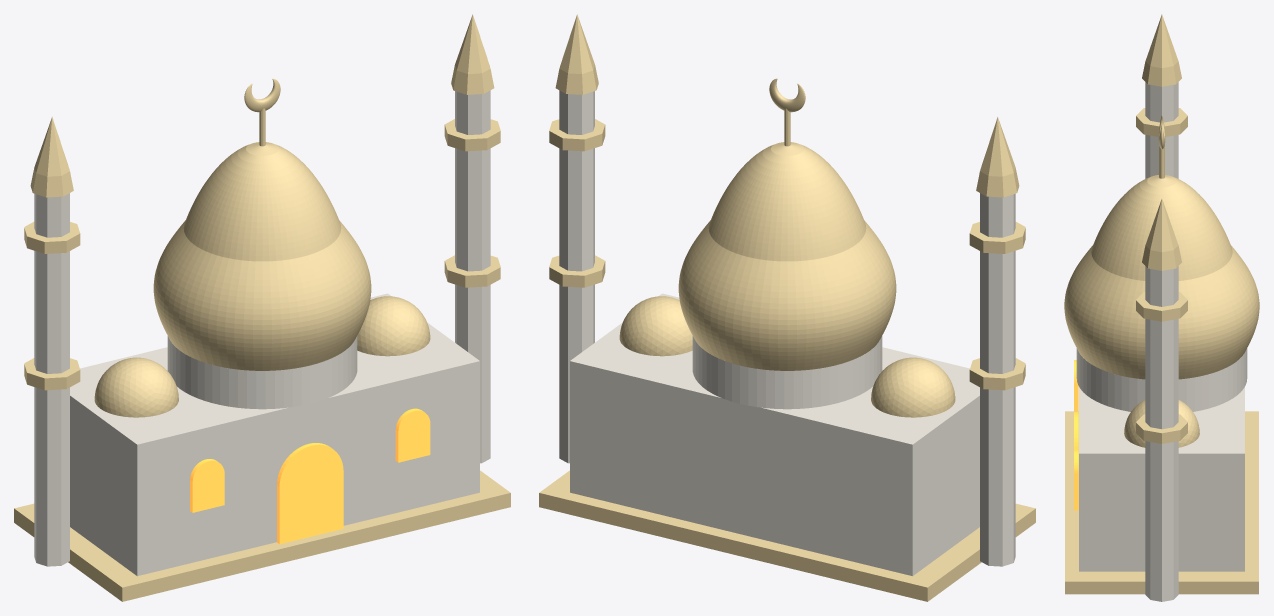
The model's file is eid_adha.glb.
3 renders of one model, left to right at view 1: azimuth 30°, elevation 25°; view 2: azimuth 150°, elevation 25°; view 3: azimuth 270°, elevation 25°, orthographic. The views are drawn at different scales.
Parts seen in each view (by area): view 1: mosque; view 2: mosque; view 3: mosque.
Boxes of the visible parts, left/top/right/bottom form: mosque: left=14, top=14, right=510, bottom=601; mosque: left=539, top=14, right=1035, bottom=601; mosque: left=1064, top=14, right=1259, bottom=601.
Size of the model in its own units: 3.42 by 3.12 by 1.37.
